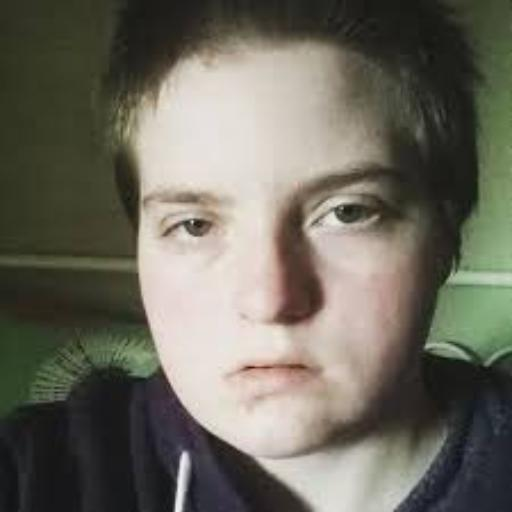left_eye: (311, 200, 402, 236)
left_lip_corner: (293, 358, 321, 381)
right_eye: (160, 216, 221, 245)
right_lip_corner: (222, 360, 261, 384)
